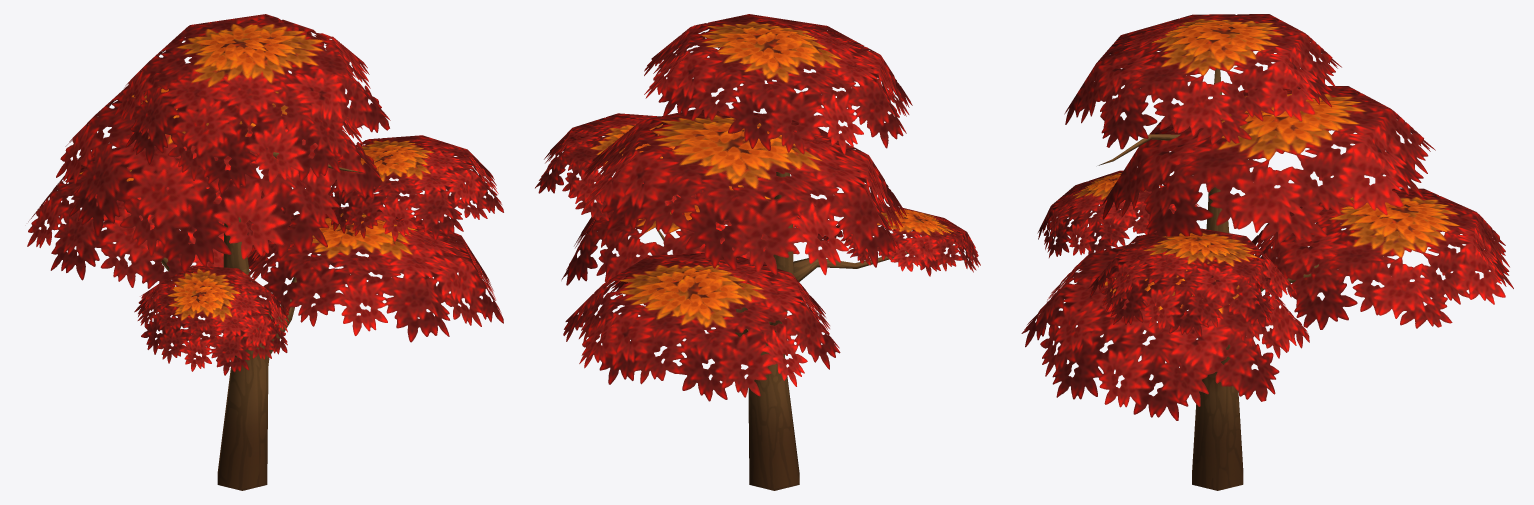
The model's file is Tree_05b.FBX.
3 renders of one model, left to right at view 1: azimuth 30°, elevation 25°; view 2: azimuth 150°, elevation 25°; view 3: azimuth 270°, elevation 25°, orthographic. The views are drawn at different scales.
Parts seen in each view (by area): view 1: Tree_05b; view 2: Tree_05b; view 3: Tree_05b.
Part boxes in pixels (bbox=[...]): Tree_05b: bbox=[27, 14, 503, 490]; Tree_05b: bbox=[535, 14, 980, 490]; Tree_05b: bbox=[1021, 14, 1513, 490].
Size of the model in its own units: 94.65 by 100 by 102.
1 material, 1 textured.
